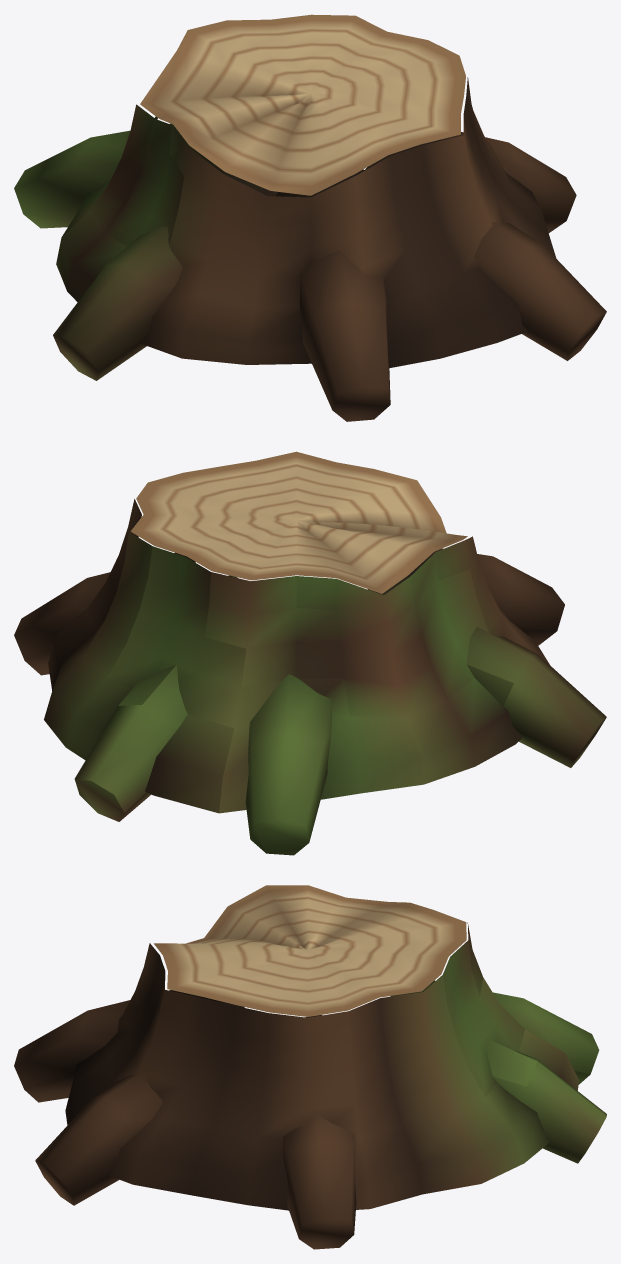
File: tree-big-stump-v1.glb
The picture shows the model from 3 angles, top to bottom: view 1: azimuth 30°, elevation 25°; view 2: azimuth 150°, elevation 25°; view 3: azimuth 270°, elevation 25°; orthographic projection. The views are drawn at different scales.
Parts seen in each view (by area): view 1: 0_stump; view 2: 0_stump; view 3: 0_stump.
Boxes of the visible parts, x1,y1,x2,y2 form: 0_stump: (14, 14, 606, 421); 0_stump: (14, 451, 606, 855); 0_stump: (14, 885, 606, 1249).
Size of the model in its own units: 2.99 by 1.13 by 3.03.
